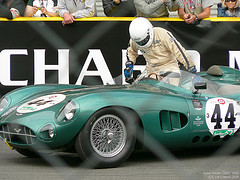helmet: (127, 20, 157, 48)
